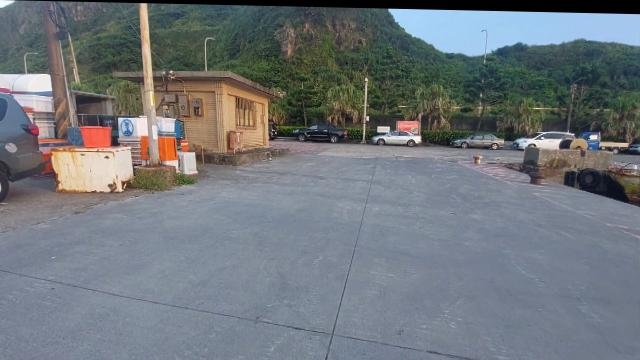pollute: (49, 144, 136, 192), (118, 116, 148, 166), (67, 125, 111, 145), (157, 137, 180, 171), (177, 151, 197, 175), (157, 115, 175, 136), (142, 136, 149, 163), (181, 139, 188, 150)
